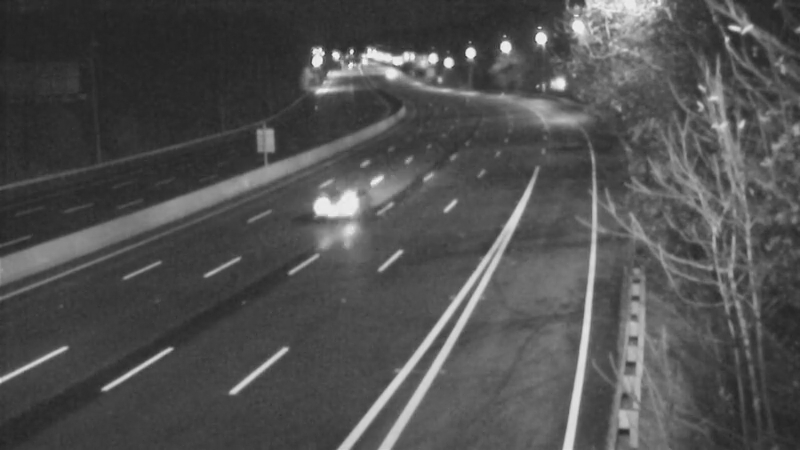vehicle: (307, 162, 387, 242), (363, 46, 413, 96)
